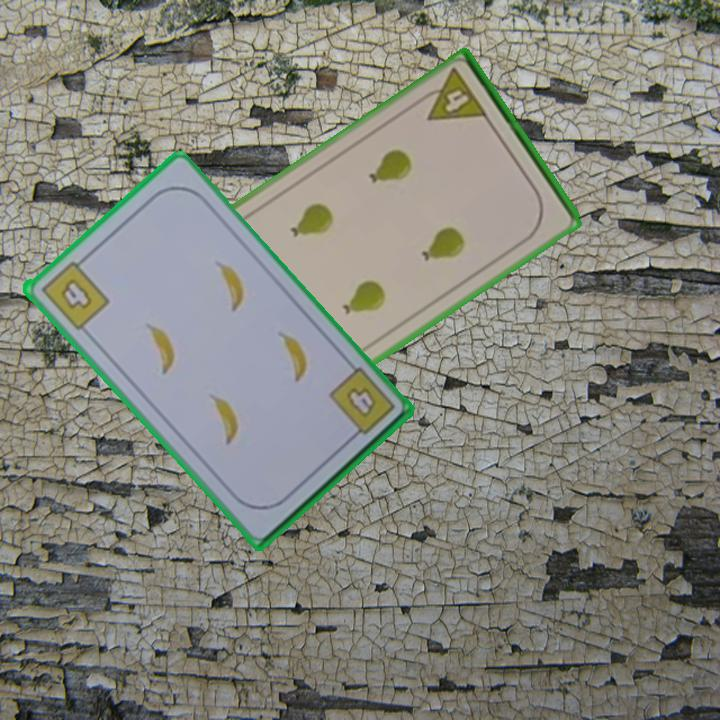4b: (36, 252, 112, 333), (341, 383, 379, 422)
4p: (414, 65, 491, 125)
